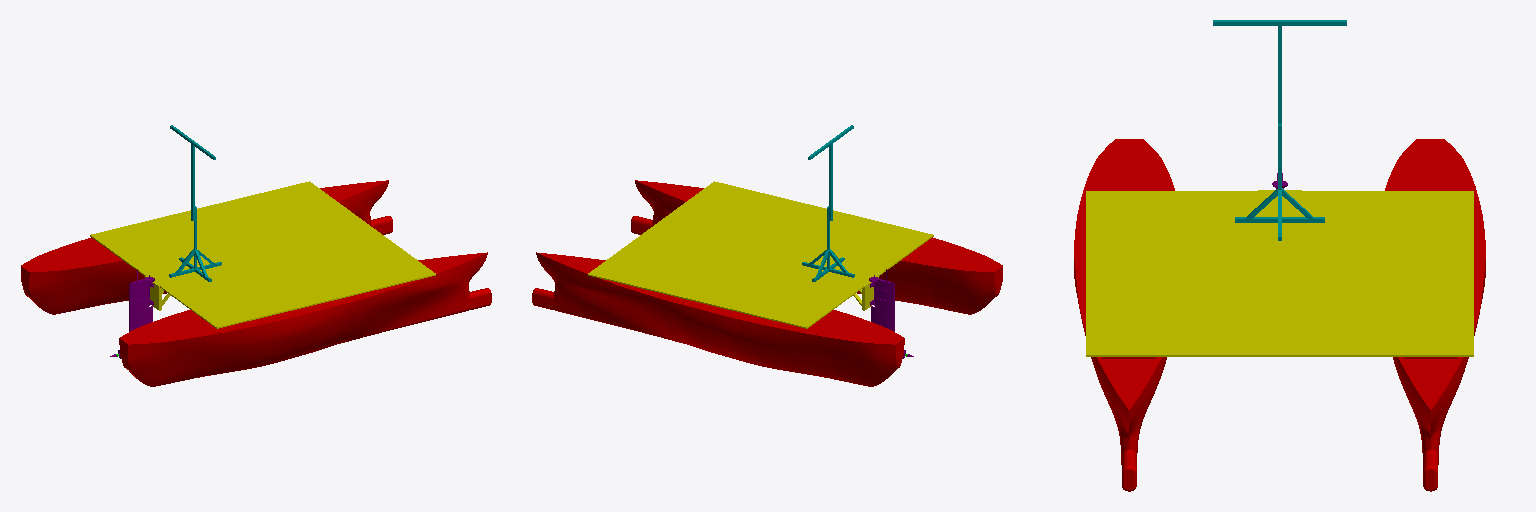
The robot description file, URDF, robot "aquanaute":
<?xml version="1.0" encoding="utf-8"?>
<!-- =================================================================================== -->
<!-- |    This document was autogenerated by xacro from aquanaute_description.urdf.xacro | -->
<!-- |    EDITING THIS FILE BY HAND IS NOT RECOMMENDED                                 | -->
<!-- =================================================================================== -->
<robot name="aquanaute">
  <material name="blue">
    <color rgba="0 0 0.8 1"/>
  </material>
  <material name="red">
    <color rgba="0.8 0 0 1"/>
  </material>
  <material name="green">
    <color rgba="0 0.8 0 0.5"/>
  </material>
  <material name="cyan">
    <color rgba="0 0.6 0.6 1"/>
  </material>
  <material name="yellow">
    <color rgba="0.8 0.8 0 1"/>
  </material>
  <material name="purple">
    <color rgba="0.5 0 0.5 1"/>
  </material>
  <material name="white">
    <color rgba="1 1 1 1"/>
  </material>
  <material name="gray">
    <color rgba="0.35 0.35 0.35 1"/>
  </material>
  <material name="black">
    <color rgba="0 0 0 1"/>
  </material>
  <!-- * * * Link Definitions * * * -->
  <link name="base_link">
    <visual>
      <origin rpy="0.0 0 0" xyz="0 0 0"/>
      <geometry>
        <sphere radius="0.001"/>
      </geometry>
      <material name="blue"/>
    </visual>
  </link>
  <link name="platform_link">
    <inertial>
      <origin rpy="0 0 0" xyz="-0.024 0 -0007"/>
      <mass value="16"/>
      <inertia ixx="4.206" ixy="0.0" ixz="-0.031" iyy="4.588" iyz="0.0" izz="8.785"/>
    </inertial>
    <collision>
      <origin rpy="0 0 0" xyz="0 0 0"/>
      <geometry>
        <mesh filename="package://aquanaute_description/models/meshes/Platform.stl"/>
      </geometry>
    </collision>
    <visual>
      <origin rpy="0.0 0 0" xyz="0 0 0"/>
      <geometry>
        <mesh filename="package://aquanaute_description/models/meshes/Platform.stl"/>
      </geometry>
      <material name="yellow"/>
    </visual>
  </link>
  <link name="right_hull_link">
    <inertial>
      <origin rpy="0 0 0" xyz="-0.124 0 -0.168"/>
      <mass value="10.45"/>
      <inertia ixx="0.244" ixy="3.346" ixz="0.009" iyy="4.974" iyz="-8.274" izz="4.965"/>
    </inertial>
    <collision>
      <origin rpy="0 0 0" xyz="0 0 0"/>
      <geometry>
        <mesh filename="package://aquanaute_description/models/meshes/Hull.stl"/>
      </geometry>
    </collision>
    <visual>
      <origin rpy="0.0 0 0" xyz="0 0 0"/>
      <geometry>
        <mesh filename="package://aquanaute_description/models/meshes/Hull.stl"/>
      </geometry>
      <material name="red"/>
    </visual>
  </link>
  <link name="left_hull_link">
    <inertial>
      <origin rpy="0 0 0" xyz="-0.124 0 -0.168"/>
      <mass value="10.45"/>
      <inertia ixx="0.244" ixy="3.346" ixz="0.009" iyy="4.974" iyz="-8.274" izz="4.965"/>
    </inertial>
    <collision>
      <origin rpy="0 0 0" xyz="0 0 0"/>
      <geometry>
        <mesh filename="package://aquanaute_description/models/meshes/Hull.stl"/>
      </geometry>
    </collision>
    <visual>
      <origin rpy="0.0 0 0" xyz="0 0 0"/>
      <geometry>
        <mesh filename="package://aquanaute_description/models/meshes/Hull.stl"/>
      </geometry>
      <material name="red"/>
    </visual>
  </link>
  <link name="motor_link">
    <inertial>
      <origin rpy="0 0 0" xyz="-0.133 0 -0.391"/>
      <mass value="6.6"/>
      <inertia ixx="0.072" ixy="3.604" ixz="-0.011" iyy="0.111" iyz="5.484" izz="0.042"/>
    </inertial>
    <collision>
      <origin rpy="0 0 0" xyz="0 0 0"/>
      <geometry>
        <mesh filename="package://aquanaute_description/models/meshes/Motor.stl"/>
      </geometry>
    </collision>
    <visual>
      <origin rpy="0.0 0 0" xyz="0 0 0"/>
      <geometry>
        <mesh filename="package://aquanaute_description/models/meshes/Motor.stl"/>
      </geometry>
      <material name="purple"/>
    </visual>
  </link>
  <link name="propeller_link">
    <collision>
      <origin rpy="0 0 0" xyz="0 0 0"/>
      <geometry>
        <cylinder length="0.04" radius="0.05"/>
      </geometry>
    </collision>
    <visual>
      <origin rpy="0 0 0" xyz="0 0 0"/>
      <geometry>
        <cylinder length="0.02" radius="0.01"/>
      </geometry>
      <material name="green"/>
    </visual>
  </link>
  <link name="sensor_frame_link">
    <inertial>
      <origin rpy="0 0 0" xyz="-0.007 0 0.379"/>
      <mass value="1.8"/>
      <inertia ixx="0.308" ixy="0.00" ixz="0.007" iyy="0.297" iyz="0.00" izz="0.022"/>
    </inertial>
    <collision>
      <origin rpy="0 0 0" xyz="0 0 0"/>
      <geometry>
        <mesh filename="package://aquanaute_description/models/meshes/sensor_frame.stl"/>
      </geometry>
    </collision>
    <visual>
      <origin rpy="0.0 0 0" xyz="0 0 0"/>
      <geometry>
        <mesh filename="package://aquanaute_description/models/meshes/sensor_frame.stl"/>
      </geometry>
      <material name="cyan"/>
    </visual>
  </link>
  <!-- * * * Joint Definitions * * * -->
  <joint name="platform_base_joint" type="fixed">
    <parent link="base_link"/>
    <child link="platform_link"/>
    <origin rpy="0 0 0" xyz="0 0 0.35"/>
  </joint>
  <joint name="right_hull_platform_joint" type="fixed">
    <parent link="platform_link"/>
    <child link="right_hull_link"/>
    <origin rpy="0 0 0" xyz="-0.05 -0.7 -0.036"/>
  </joint>
  <joint name="left_hull_platform_joint" type="fixed">
    <parent link="platform_link"/>
    <child link="left_hull_link"/>
    <origin rpy="0 0 0" xyz="-0.05 0.7 -0.036"/>
  </joint>
  <joint name="motor_platform_joint" type="revolute">
    <parent link="platform_link"/>
    <child link="motor_link"/>
    <origin rpy="0 0 0" xyz="-0.91 0.0 -0.09"/>
    <axis xyz="0 0 1"/>
    <limit effort="-1" lower="-0.9" upper="0.9" velocity="-1"/>
  </joint>
  <joint name="propeller_motor_joint" type="revolute">
    <parent link="motor_link"/>
    <child link="propeller_link"/>
    <origin rpy="0 1.57 0" xyz="-0.28 0 -0.42"/>
    <axis xyz="0 0 1"/>
    <limit effort="-1" lower="-1e+12" upper="1e+12" velocity="-1"/>
  </joint>
  <joint name="sensor_frame_platform_joint" type="fixed">
    <parent link="platform_link"/>
    <child link="sensor_frame_link"/>
    <origin rpy="0 0 0" xyz="-0.55 0.0 0.0"/>
  </joint>
  <!-- * * * GAZEBO Definitions * * * -->
  <gazebo reference="base_link">
    <kp>100000.0</kp>
    <kd>100000.0</kd>
    <mu1>10.0</mu1>
    <mu2>10.0</mu2>
    <material>Gazebo/Grey</material>
  </gazebo>
  <gazebo reference="platform_link">
    <kp>100000.0</kp>
    <kd>100000.0</kd>
    <mu1>10.0</mu1>
    <mu2>10.0</mu2>
    <material>Gazebo/Grey</material>
  </gazebo>
  <gazebo reference="right_hull_link">
    <kp>100000.0</kp>
    <kd>100000.0</kd>
    <mu1>10.0</mu1>
    <mu2>10.0</mu2>
    <material>Gazebo/Red</material>
  </gazebo>
  <gazebo reference="left_hull_link">
    <kp>100000.0</kp>
    <kd>100000.0</kd>
    <mu1>10.0</mu1>
    <mu2>10.0</mu2>
    <material>Gazebo/Red</material>
  </gazebo>
  <gazebo reference="motor_link">
    <kp>100000.0</kp>
    <kd>100000.0</kd>
    <mu1>10.0</mu1>
    <mu2>10.0</mu2>
    <material>Gazebo/Black</material>
  </gazebo>
  <gazebo reference="sensor_frame_link">
    <kp>100000.0</kp>
    <kd>100000.0</kd>
    <mu1>10.0</mu1>
    <mu2>10.0</mu2>
    <material>Gazebo/White</material>
  </gazebo>
  <!-- * * * GAZEBO Plugins * * * -->
  <plugin filename="libArduPilotPlugin.so" name="ardupilot_plugin">
    <fdm_addr>127.0.0.1</fdm_addr>
    <fdm_port_in>9002</fdm_port_in>
    <fdm_port_out>9003</fdm_port_out>
    <modelXYZToAirplaneXForwardZDown>0 0 0 3.141593 0 0</modelXYZToAirplaneXForwardZDown>
    <gazeboXYZToNED>0 0 0 3.141593 0 0</gazeboXYZToNED>
    <!--<imuName></imuName>-->
    <connectionTimeoutMaxCount>5</connectionTimeoutMaxCount>
    <!--
          incoming control command [0, 1]
          so offset it by 0 to get [0, 1]
          and divide max target by 1.
          offset = 0
          multiplier = 838 max rpm / 1 = 838
        -->
    <control channel="0">
      <multiplier>1</multiplier>
      <offset>-0.5</offset>
      <type>RIC</type>
      <p_gain>1</p_gain>
      <i_gain>0</i_gain>
      <d_gain>0</d_gain>
      <i_max>0</i_max>
      <i_min>0</i_min>
      <cmd_max>1</cmd_max>
      <cmd_min>-1</cmd_min>
      <jointName>aquanaute::motor_platform_joint</jointName>
    </control>
    <control channel="1">
      <multiplier>1</multiplier>
      <offset>-0.5</offset>
      <type>THOMAS</type>
      <p_gain>1</p_gain>
      <i_gain>0</i_gain>
      <d_gain>0</d_gain>
      <i_max>0</i_max>
      <i_min>0</i_min>
      <cmd_max>1</cmd_max>
      <cmd_min>-1</cmd_min>
      <jointName>aquanaute::propeller_motor_joint</jointName>
    </control>
  </plugin>
</robot>

--- Render facts (derived) ---
Views: 3 orthographic renders of the robot side by side, from view 1: azimuth 30°, elevation 25°; view 2: azimuth 150°, elevation 25°; view 3: azimuth 270°, elevation 25°.
Model aquanaute with 7 links and 6 joints (2 revolute, 4 fixed), rooted at base_link, posed all joints at 0.
Visible links, largest first — view 1: platform_link, right_hull_link, left_hull_link, sensor_frame_link, motor_link; view 2: platform_link, left_hull_link, right_hull_link, sensor_frame_link, motor_link; view 3: platform_link, right_hull_link, left_hull_link, sensor_frame_link.
Link boxes in pixels (x1,y1,x2,y2): platform_link: (90,181,435,328); right_hull_link: (119,252,491,386); left_hull_link: (21,180,392,314); sensor_frame_link: (169,125,221,281); motor_link: (110,269,154,358); platform_link: (588,181,933,328); left_hull_link: (532,252,904,386); right_hull_link: (631,180,1002,314); sensor_frame_link: (802,125,854,281); motor_link: (869,269,913,358); platform_link: (1086,190,1473,356); right_hull_link: (1074,139,1174,491); left_hull_link: (1385,139,1485,491); sensor_frame_link: (1213,20,1346,240).
Size in the robot's own frame: 3 by 1.92 by 1.57 metres.
5 mesh visuals loaded from 4 distinct referenced files (4 binary STL).
